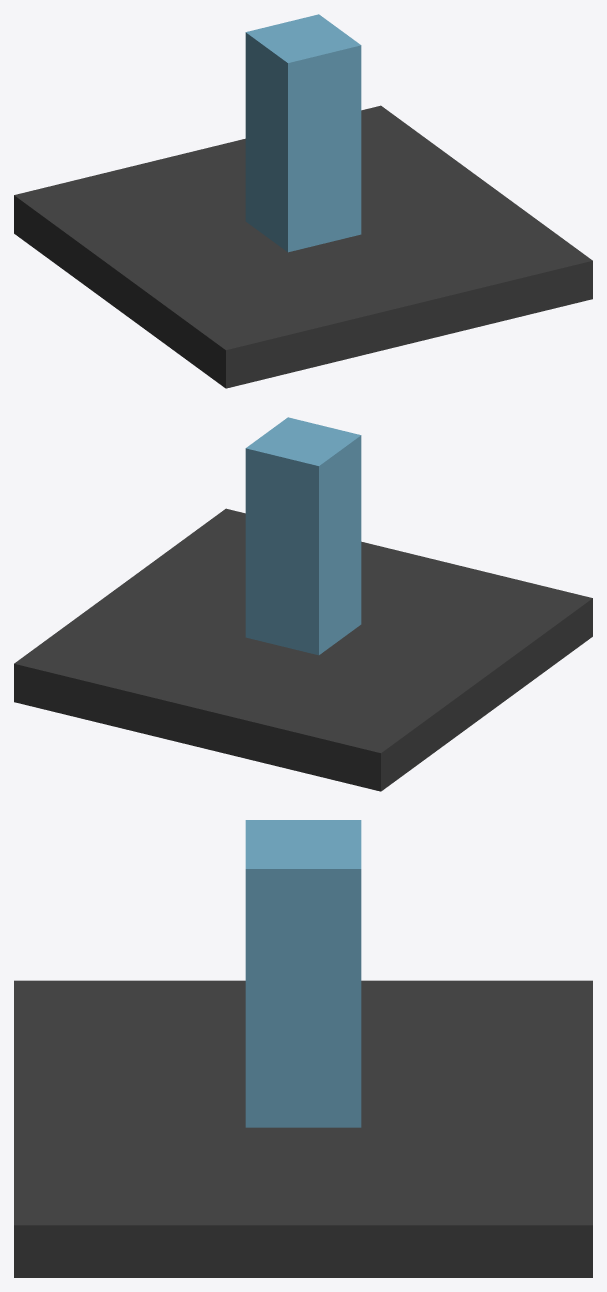
3 renders of one model, top to bottom at view 1: azimuth 30°, elevation 25°; view 2: azimuth 150°, elevation 25°; view 3: azimuth 270°, elevation 25°, orthographic. The views are drawn at different scales.
Visible parts, largest first — view 1: Ground, BOX01_1; view 2: Ground, BOX01_1; view 3: Ground, BOX01_1.
Part boxes in pixels (x1,y1,x2,y2): Ground: [14, 105, 592, 388]; BOX01_1: [245, 14, 361, 252]; Ground: [14, 508, 592, 791]; BOX01_1: [245, 417, 361, 655]; Ground: [14, 980, 592, 1277]; BOX01_1: [245, 820, 361, 1127].
Size of the model in its own units: 1000 by 592 by 1000.
